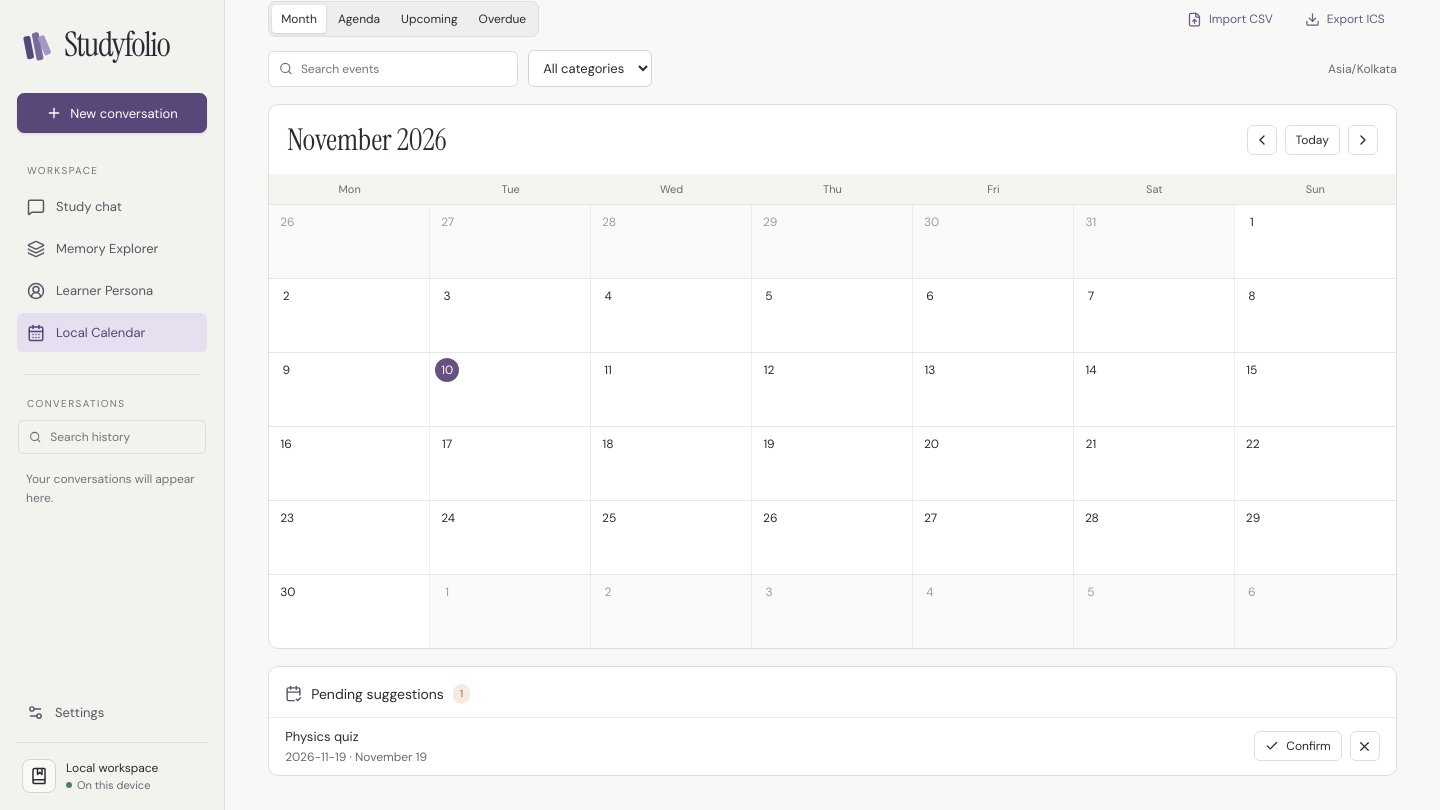
Scenario: Local workspace › renders the month, confirms a suggestion and lists the event
(page scrolled)
Expected: the text "Mon" is shown, left=269, top=174, right=430, bottom=204
Click the button "Confirm".
click(1298, 746)  # box left=1254, top=731, right=1342, bottom=761
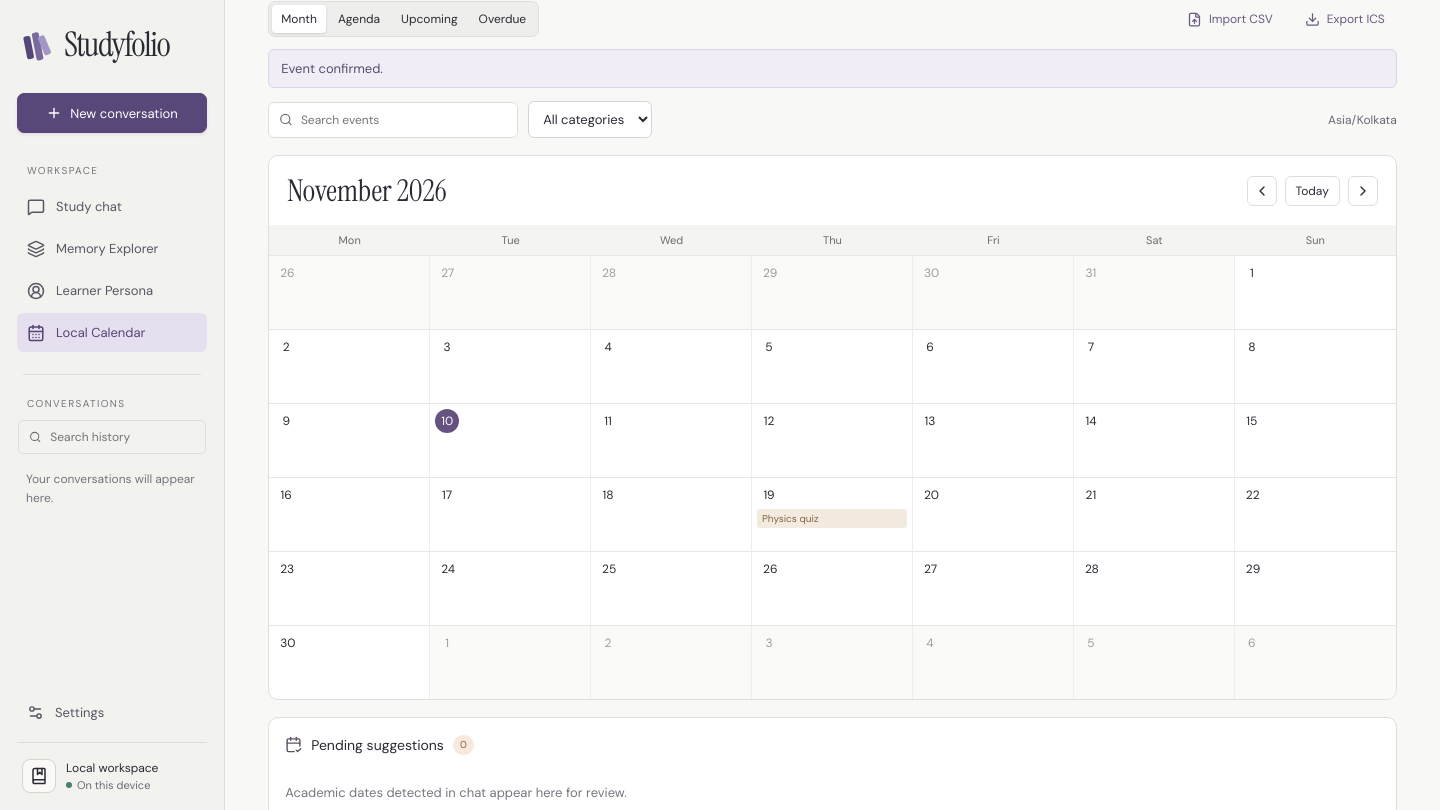
Click the button "Agenda".
click(359, 19)  # box left=329, top=5, right=389, bottom=33
(page scrolled)
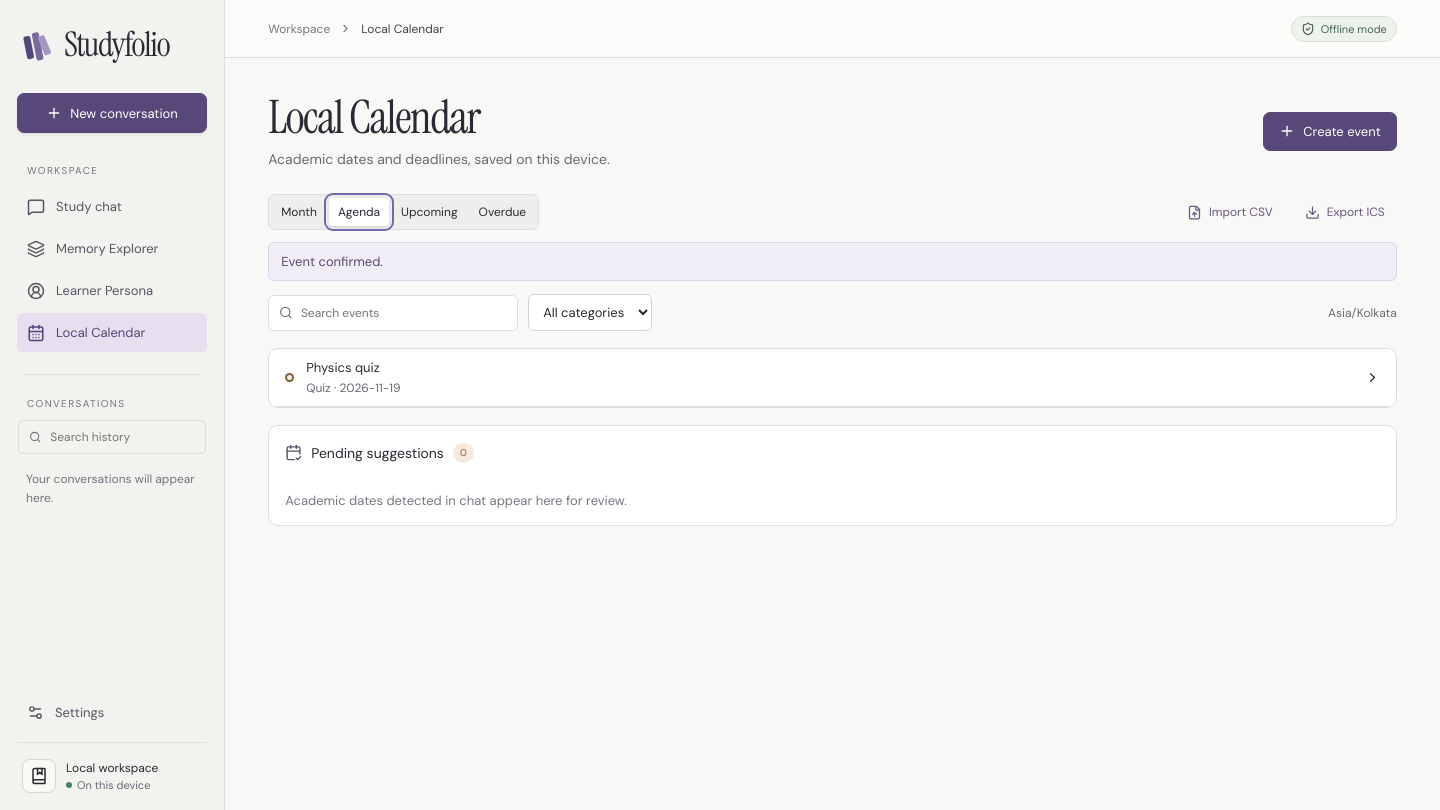
Now the button "Physics quiz Quiz · 2026-11-19" is shown, box left=269, top=349, right=1396, bottom=407
